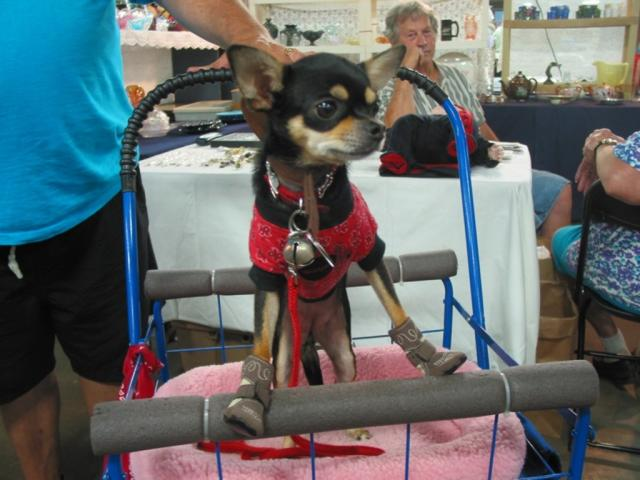Dog: (224, 42, 466, 451)
